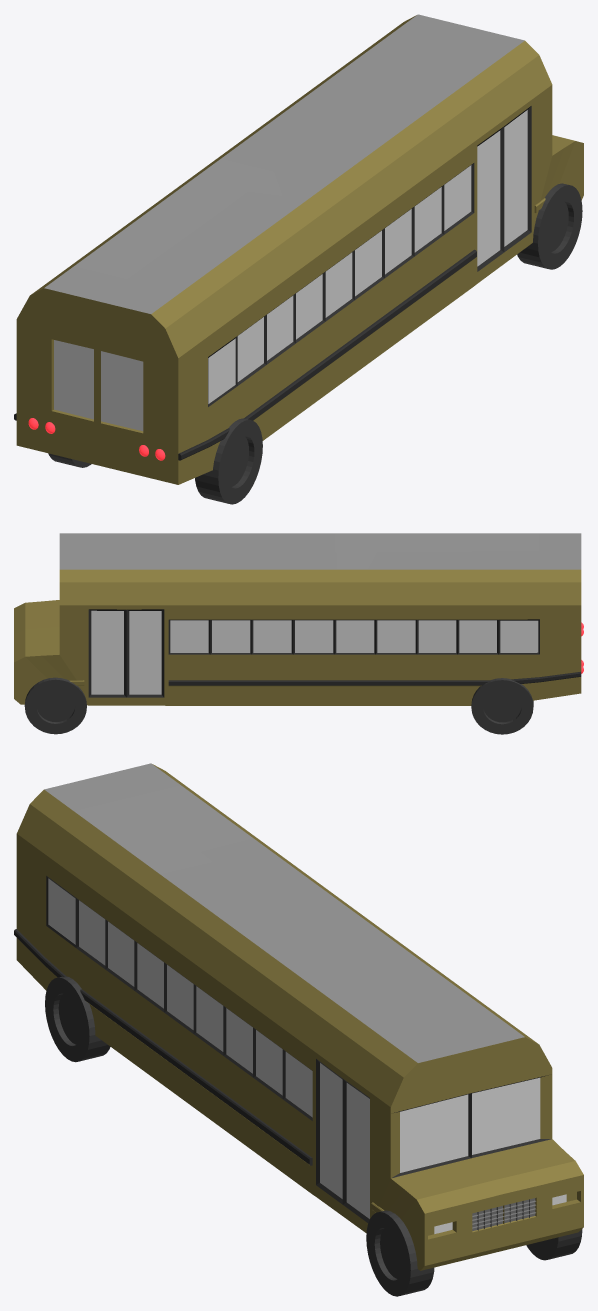
Rendered from school-bus.fbx.
3 views of the same model, one above another, from view 1: azimuth 30°, elevation 25°; view 2: azimuth 150°, elevation 25°; view 3: azimuth 270°, elevation 25° (orthographic). The views are drawn at different scales.
Visible parts, largest first — view 1: School Bus, RR.002, FR.002; view 2: School Bus, FL.002, RL.002; view 3: School Bus, FR.002, RR.002, FL.002.
Part boxes in pixels (<box>): School Bus: <box>14,14,583,484</box>; RR.002: <box>195,418,262,504</box>; FR.002: <box>517,183,582,269</box>; School Bus: <box>14,533,583,705</box>; FL.002: <box>24,677,86,734</box>; RL.002: <box>471,678,533,734</box>; School Bus: <box>14,763,583,1270</box>; FR.002: <box>366,1210,434,1296</box>; RR.002: <box>45,976,110,1062</box>; FL.002: <box>526,1229,582,1260</box>.
Size of the model in its own units: 6.17 by 2.63 by 8.65.
